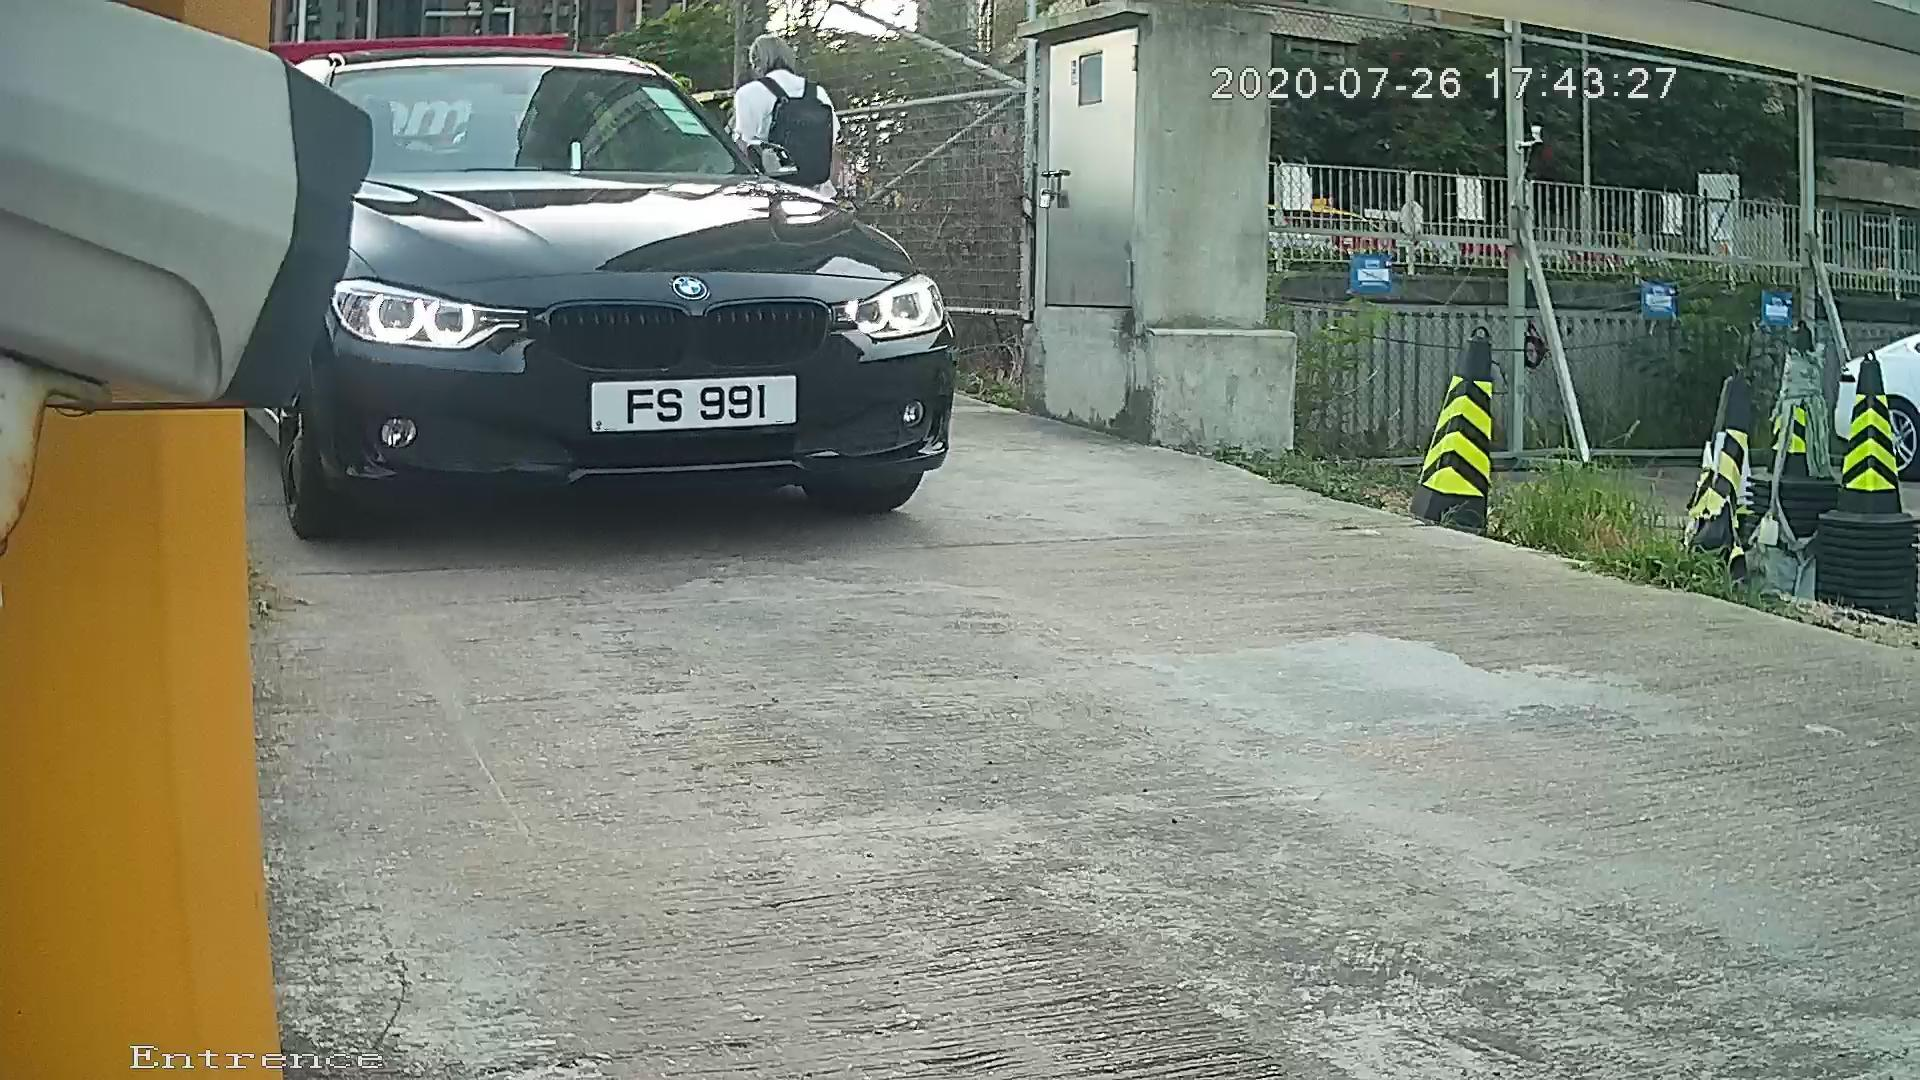privatecar: (215, 15, 1029, 560)
